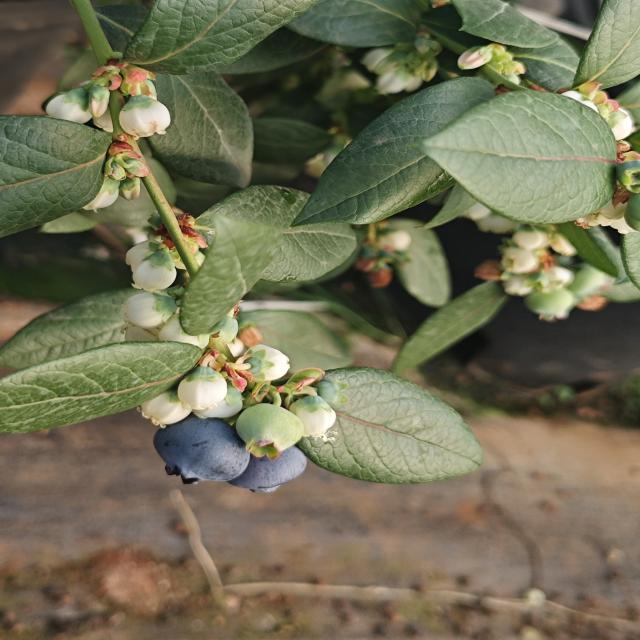ripe: (143, 413, 250, 491), (224, 438, 318, 500)
